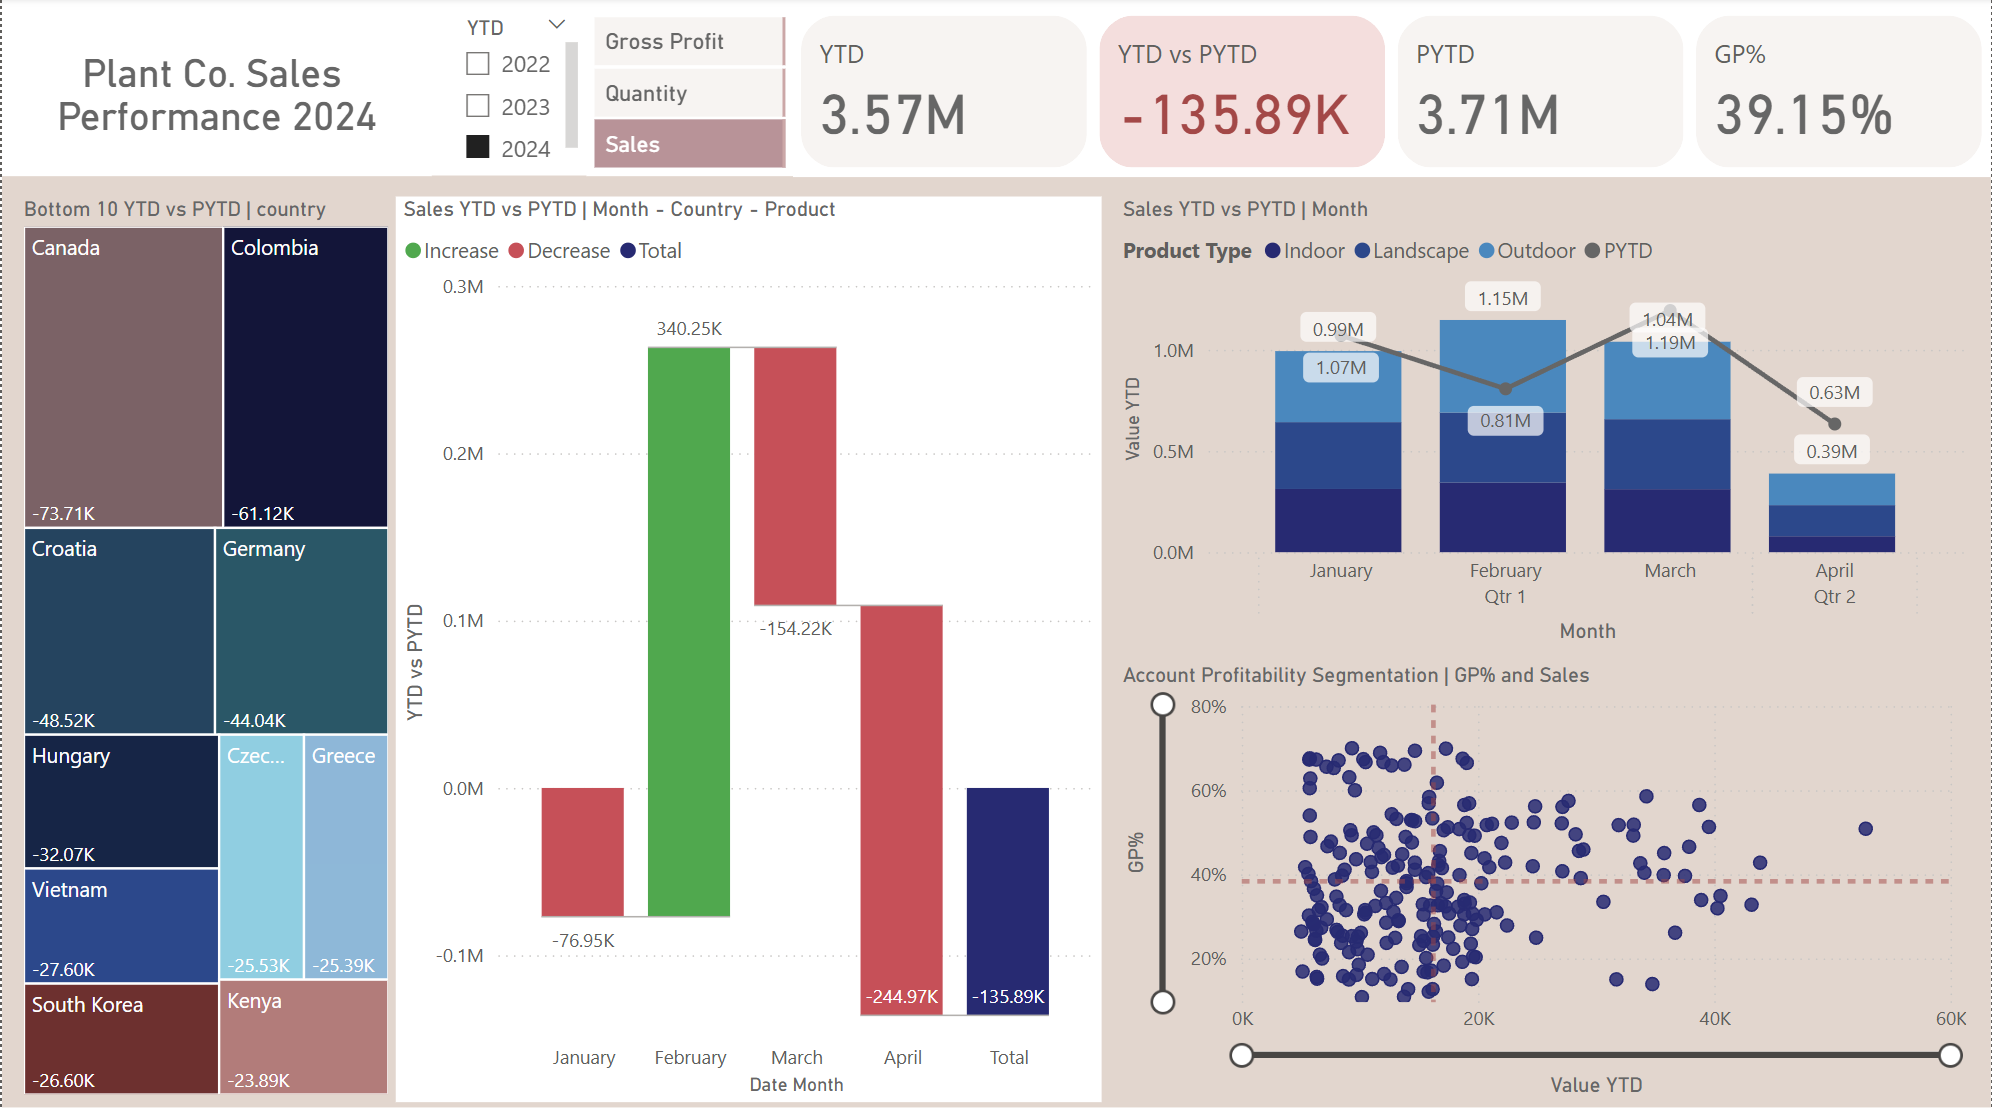

This screenshot's page, from the dashboard's own definition file:
{"tool":"powerbi","page":{"name":"Performance Report","canvas":[1280,720],"ordinal":0},"visuals":[{"type":"shape","box":[0,115.2,1280.2,599.8],"z":0},{"type":"cardVisual","fields":{"Data":["_Measures.S_YTD","_Measures.YTD vs PYTD","_Measures.S_PYTD","_Measures.GP%"]},"box":[509.4,6.2,770.8,109],"z":1000},{"type":"slicer","fields":{"Values":["Dim_date.Date.Variation.Date Hierarchy.Year"]},"box":[286.2,6.2,89.5,107.2],"z":2000},{"type":"treemap","title":"Bottom 10 YTD vs PYTD | country","fields":{"Values":["_Measures.YTD vs PYTD"],"Group":["Dim_Account.country"]},"box":[8.9,128.5,244.5,582.9],"z":3000},{"type":"waterfallChart","fields":{"Y":["_Measures.YTD vs PYTD"],"Category":["Dim_date.Date.Variation.Date Hierarchy.Month","Dim_Account.country","Dim_Product.Produt_Type","Dim_Product.Product_Name"]},"box":[253.4,128.5,454.5,582.9],"z":4000},{"type":"lineStackedColumnComboChart","fields":{"Category":["Dim_date.Date.Variation.Date Hierarchy.Quarter","Dim_date.Date.Variation.Date Hierarchy.Month"],"Y":["_Measures.S_YTD"],"Y2":["_Measures.S_PYTD"],"Series":["Dim_Product.Produt_Type"]},"box":[716.7,128.5,552.8,291.5],"z":5000},{"type":"advancedSlicerVisual","fields":{"Values":["Slc_Values.Values"]},"box":[375.7,7.7,133.6,107.5],"z":6000},{"type":"scatterChart","fields":{"X":["_Measures.S_YTD"],"Y":["_Measures.GP%"],"Category":["Dim_Account.Account"]},"box":[716.7,427.9,552.8,283.5],"z":7000},{"type":"card","fields":{"Values":["_Measures._Report title"]},"box":[0,8,276.4,107.2],"z":8000}]}

Visuals, with their boxes in screenshot pixels (x1, y1, x2, y2), scaled from the page's 1280x720 canvas onto the 1992x1110 screenshot:
shape: 0 178 1991 1102
cardVisual - _Measures.S_YTD x _Measures.YTD vs PYTD: 793 10 1991 178
slicer - Dim_date.Date.Variation.Date Hierarchy.Year: 445 10 585 175
"Bottom 10 YTD vs PYTD | country" treemap: 14 198 394 1097
waterfallChart - _Measures.YTD vs PYTD x Dim_date.Date.Variation.Date Hierarchy.Month: 394 198 1102 1097
lineStackedColumnComboChart - Dim_date.Date.Variation.Date Hierarchy.Quarter x Dim_date.Date.Variation.Date Hierarchy.Month: 1115 198 1976 648
advancedSlicerVisual - Slc_Values.Values: 585 12 793 178
scatterChart - _Measures.S_YTD x _Measures.GP%: 1115 660 1976 1097
card - _Measures._Report title: 0 12 430 178
